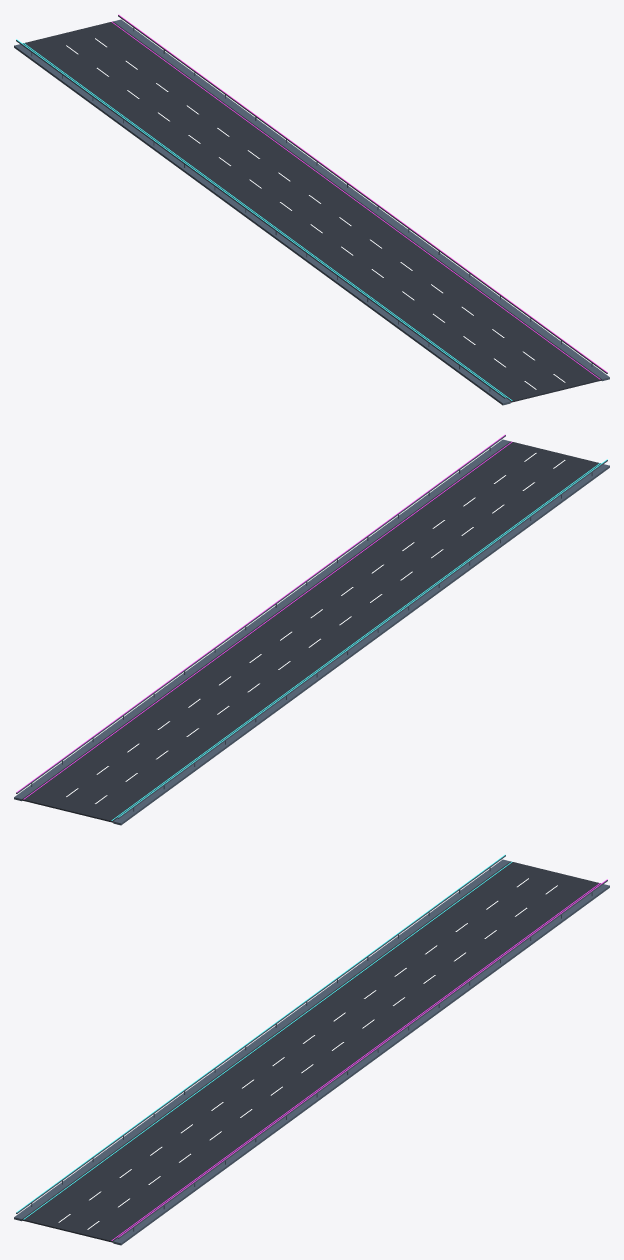
The model's file is neon_highway_128.glb.
3 views of the same model, one above another, from view 1: azimuth 30°, elevation 25°; view 2: azimuth 150°, elevation 25°; view 3: azimuth 330°, elevation 25° (orthographic).
Visible parts, largest first — view 1: Highway; view 2: Highway; view 3: Highway.
Boxes of the visible parts, bbox=[...] form: Highway: bbox=[14, 14, 609, 405]; Highway: bbox=[14, 434, 609, 825]; Highway: bbox=[14, 854, 609, 1245].
Bounding box in the file's own units: 16.2 × 1.11 × 128.
